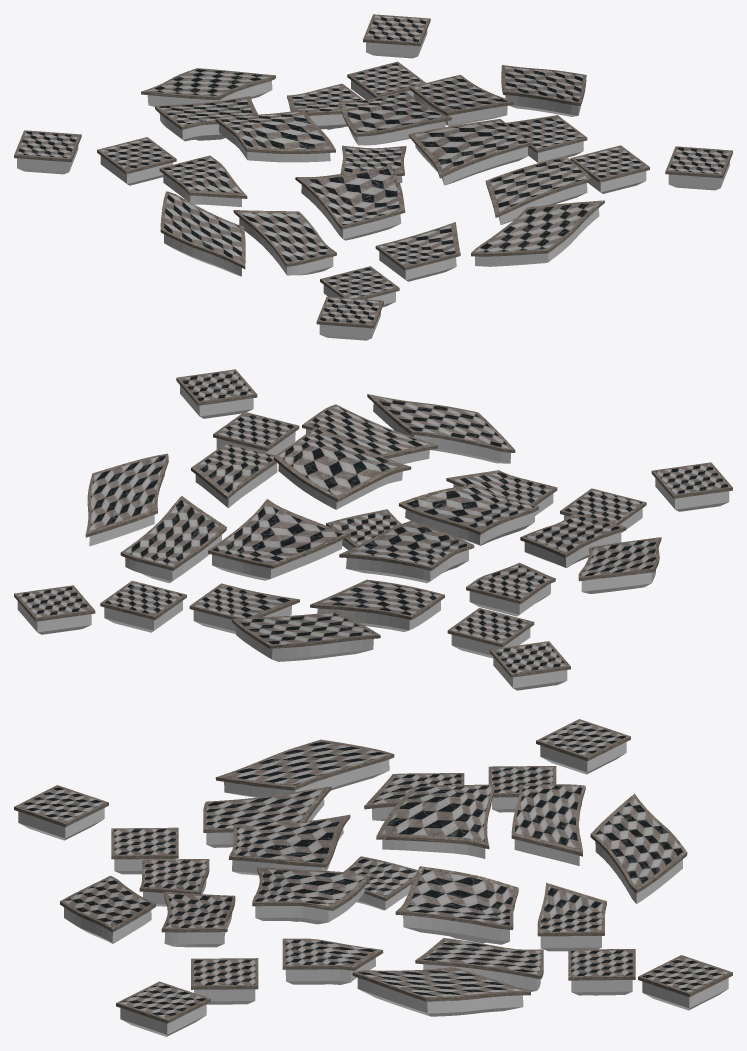
File: Dragonfly_ADifferentPlace_01.fbx
3 renders of one model, top to bottom at view 1: azimuth 30°, elevation 25°; view 2: azimuth 150°, elevation 25°; view 3: azimuth 270°, elevation 25°, orthographic. The views are drawn at different scales.
Parts seen in each view (by area): view 1: Cube; view 2: Cube; view 3: Cube.
Part boxes in pixels (left/top/right/bottom): Cube: left=14, top=14, right=732, bottom=340; Cube: left=14, top=369, right=732, bottom=690; Cube: left=14, top=719, right=732, bottom=1036.
Bounding box in the file's own units: 23.57 × 3.3 × 23.47.
